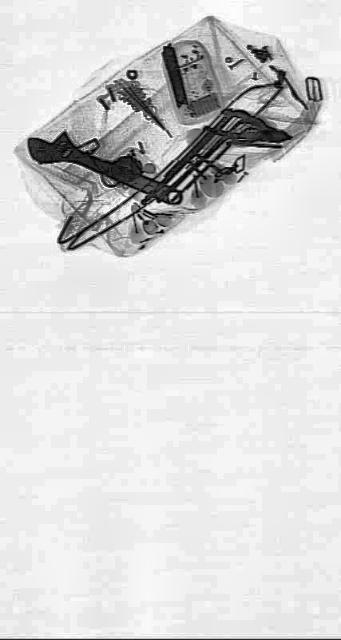Pliers: (218, 105, 290, 153)
Wrench: (25, 115, 184, 219)
